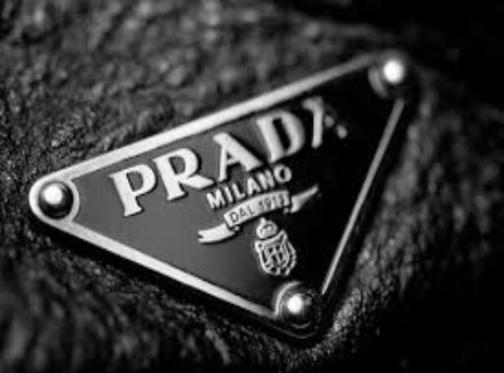PRADA: (109, 72, 351, 218)
